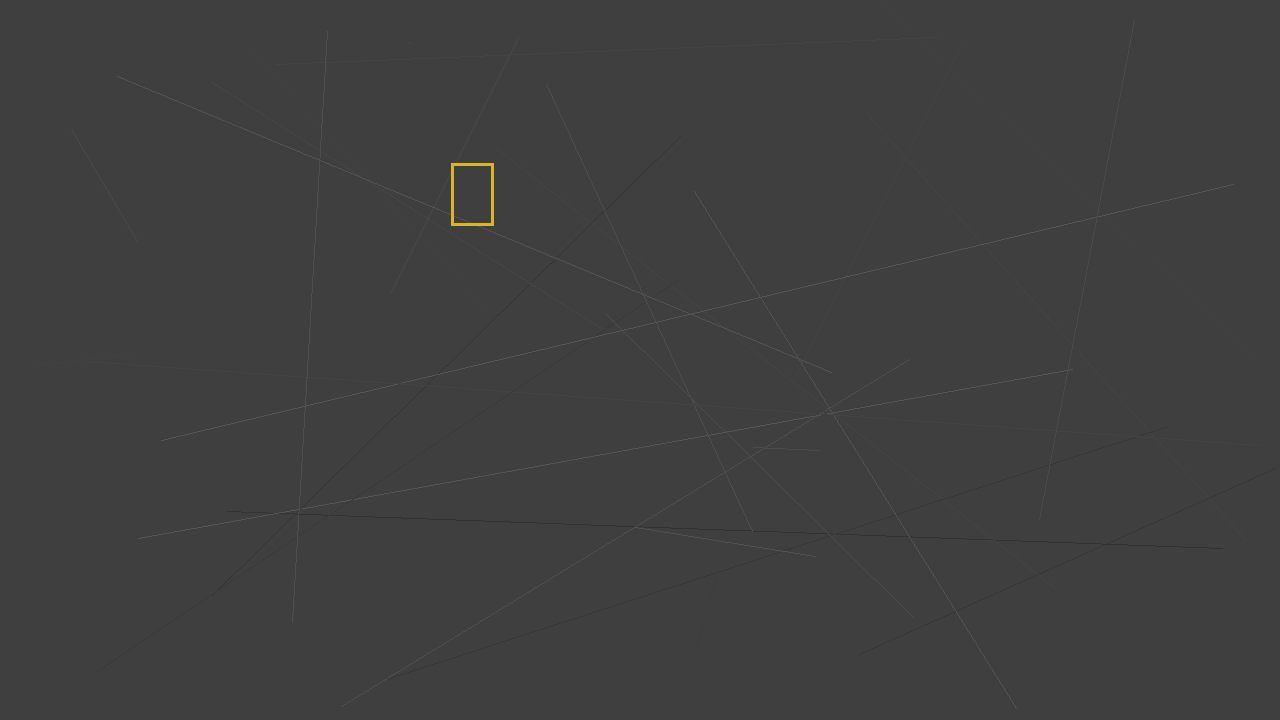D00: (451, 163, 493, 225)
